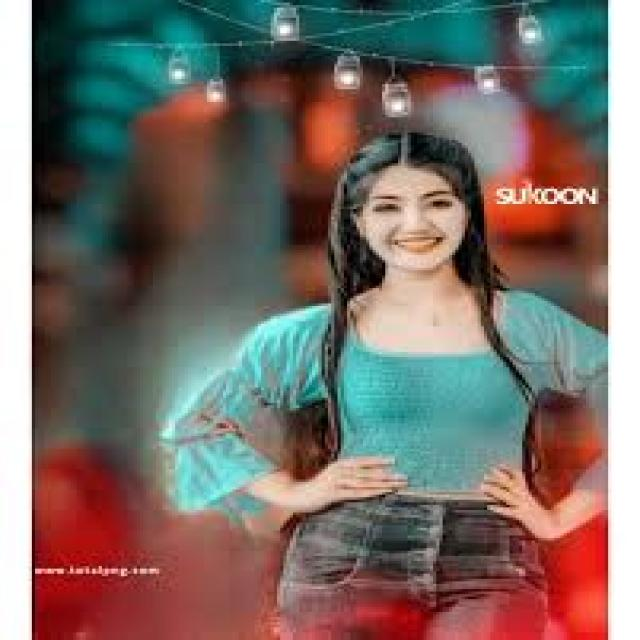Edited images: (144, 117, 616, 640)
